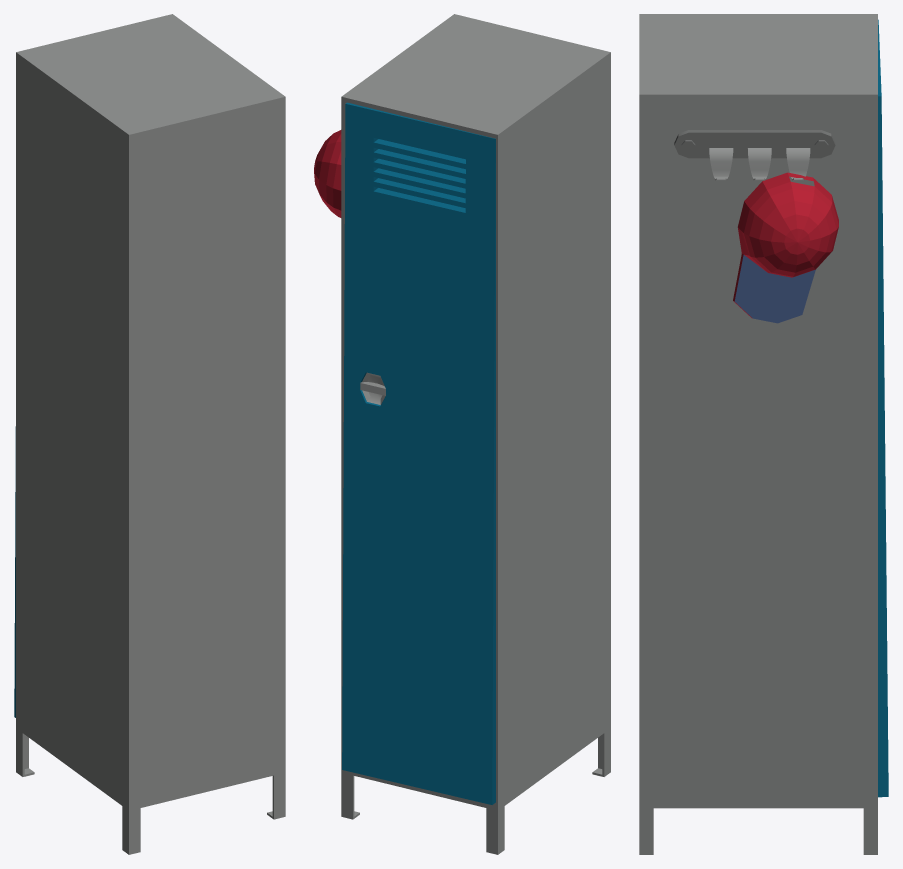
The model's file is Schrank_2_Mb.fbx.
3 views of the same model, side by side, from view 1: azimuth 30°, elevation 25°; view 2: azimuth 150°, elevation 25°; view 3: azimuth 270°, elevation 25° (orthographic). The views are drawn at different scales.
Visible parts, largest first — view 1: pCube52; view 2: pCube52; view 3: pCube52.
Boxes of the visible parts, bbox=[...] form: pCube52: bbox=[14, 14, 285, 854]; pCube52: bbox=[314, 14, 610, 854]; pCube52: bbox=[639, 14, 888, 854].
Size of the model in its own units: 56.15 by 176 by 52.27.
